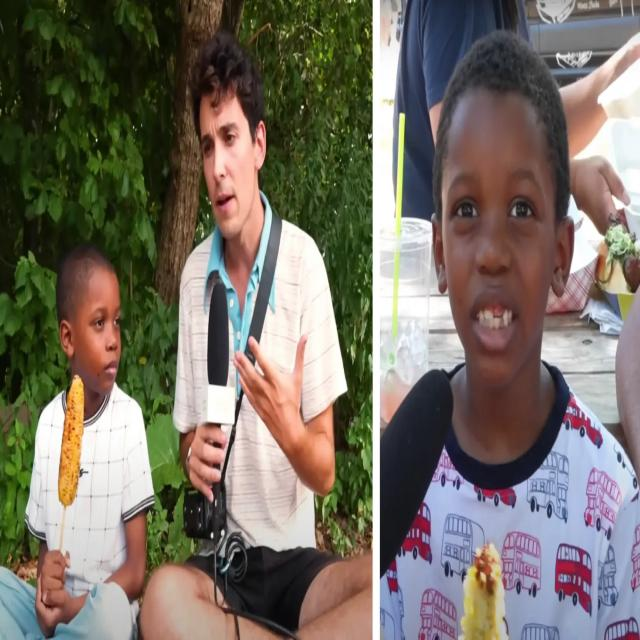adult: (141, 34, 372, 640)
child: (375, 28, 640, 640), (0, 243, 152, 640)
